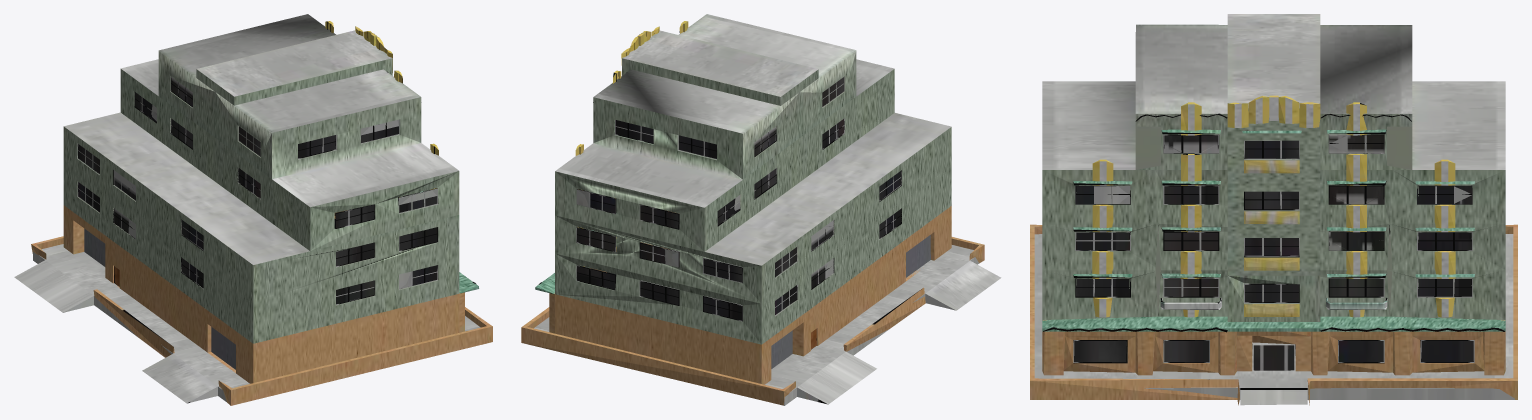
Rendered from green_apartment_lod1.glb.
3 views of the same model, side by side, from view 1: azimuth 30°, elevation 25°; view 2: azimuth 150°, elevation 25°; view 3: azimuth 270°, elevation 25° (orthographic). The views are drawn at different scales.
Parts seen in each view (by area): view 1: green_apartment; view 2: green_apartment; view 3: green_apartment.
Boxes of the visible parts, left/top/right/bottom form: green_apartment: left=14, top=14, right=492, bottom=405; green_apartment: left=521, top=14, right=1001, bottom=405; green_apartment: left=1030, top=14, right=1517, bottom=405.
Bounding box in the file's own units: 19.19 × 14.47 × 21.93.
1 material, 1 textured.
